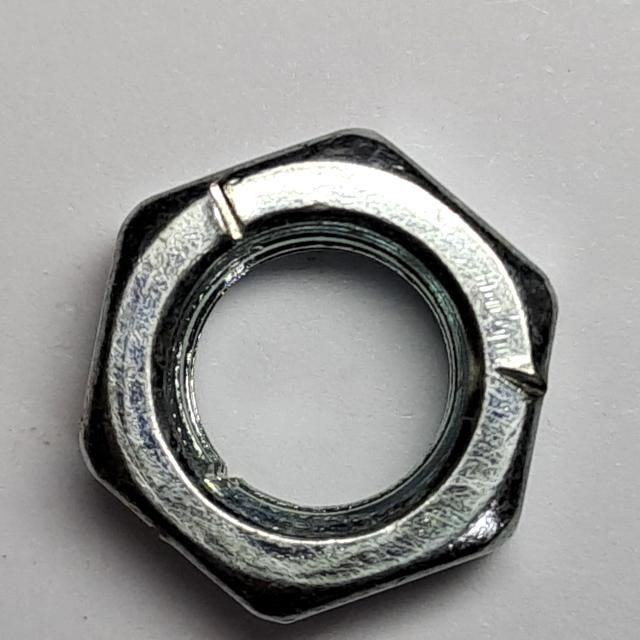Scratches: (70, 117, 569, 640)
